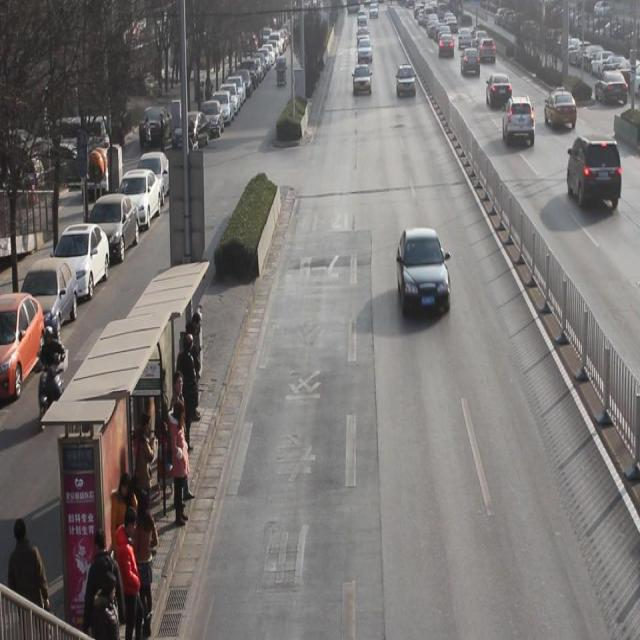car: (396, 228, 452, 320), (567, 134, 622, 210), (502, 96, 536, 148), (544, 86, 578, 131), (594, 70, 628, 108), (487, 74, 512, 105), (396, 64, 416, 97), (461, 47, 480, 80), (352, 65, 371, 97), (439, 33, 455, 61), (480, 37, 496, 63), (358, 39, 373, 64), (458, 26, 472, 50), (473, 30, 487, 49)
